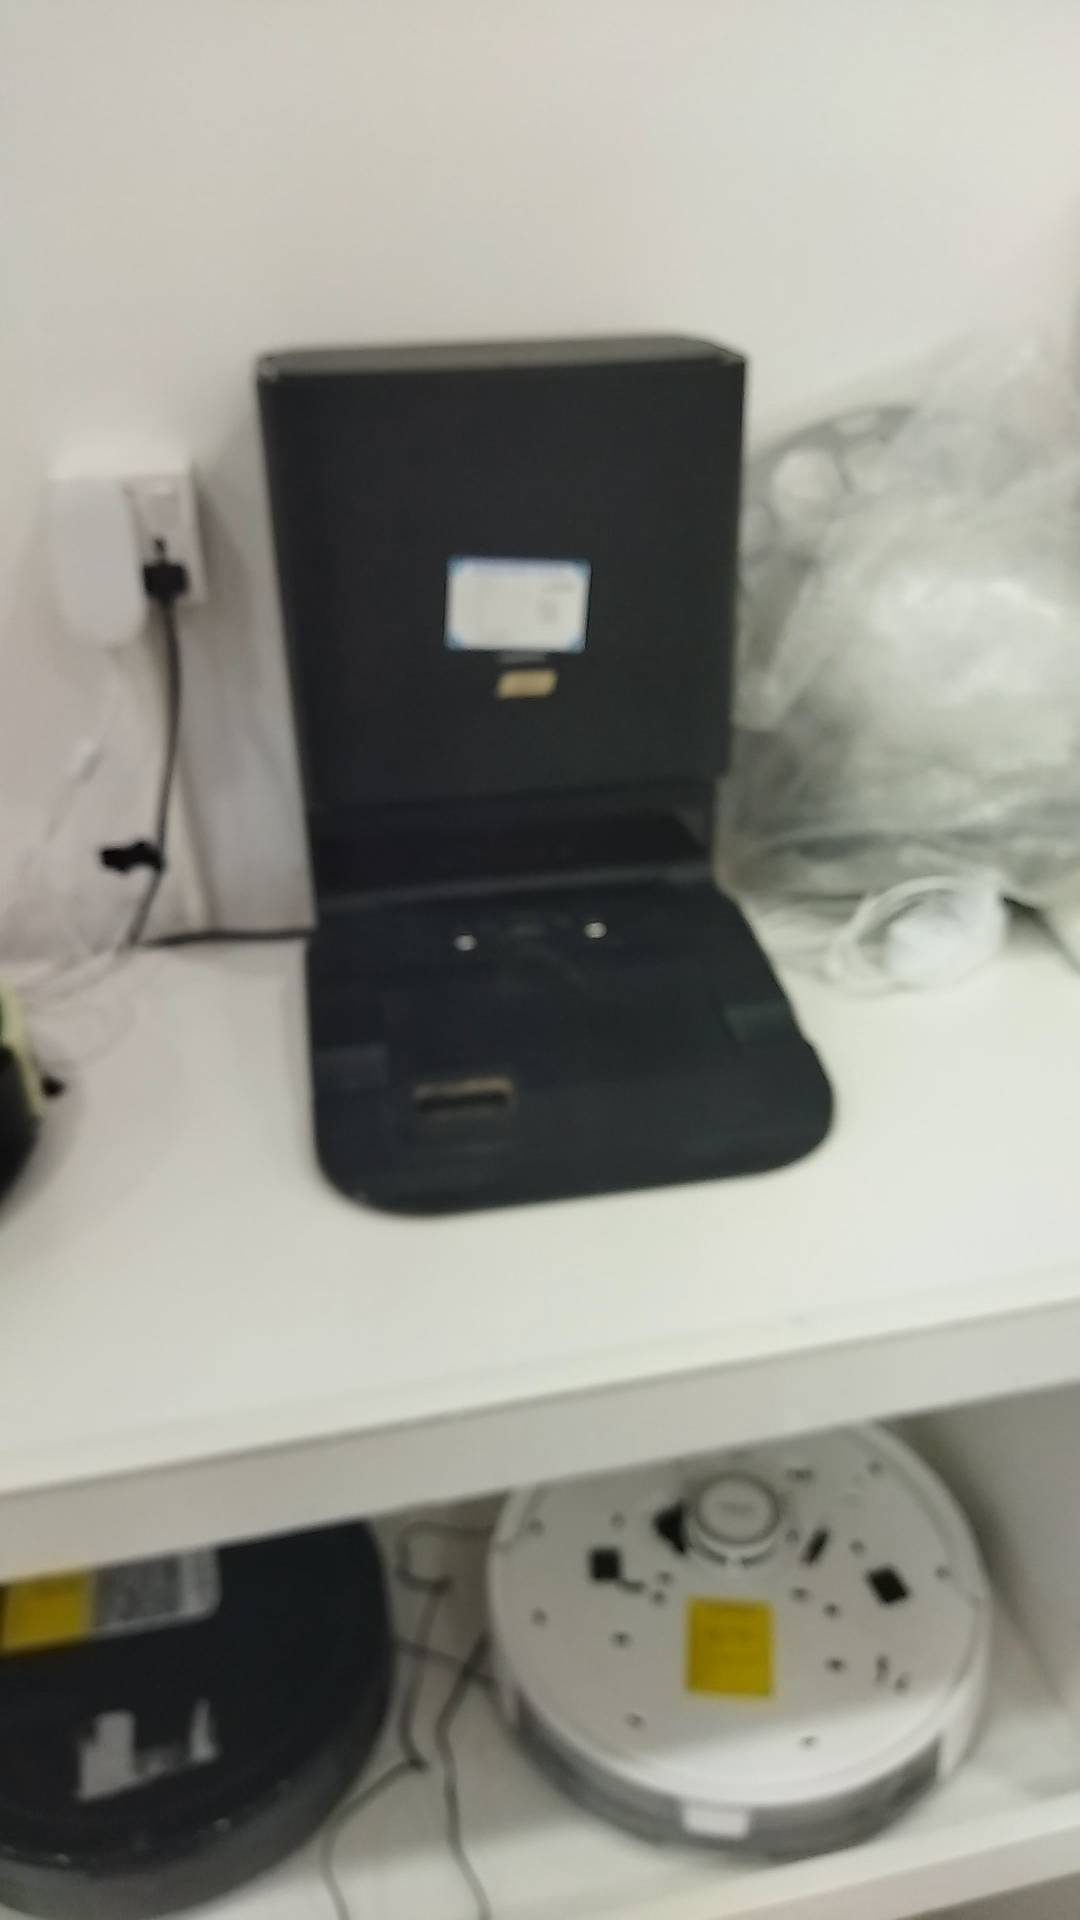dust collecting barrel: (255, 335, 836, 1222)
